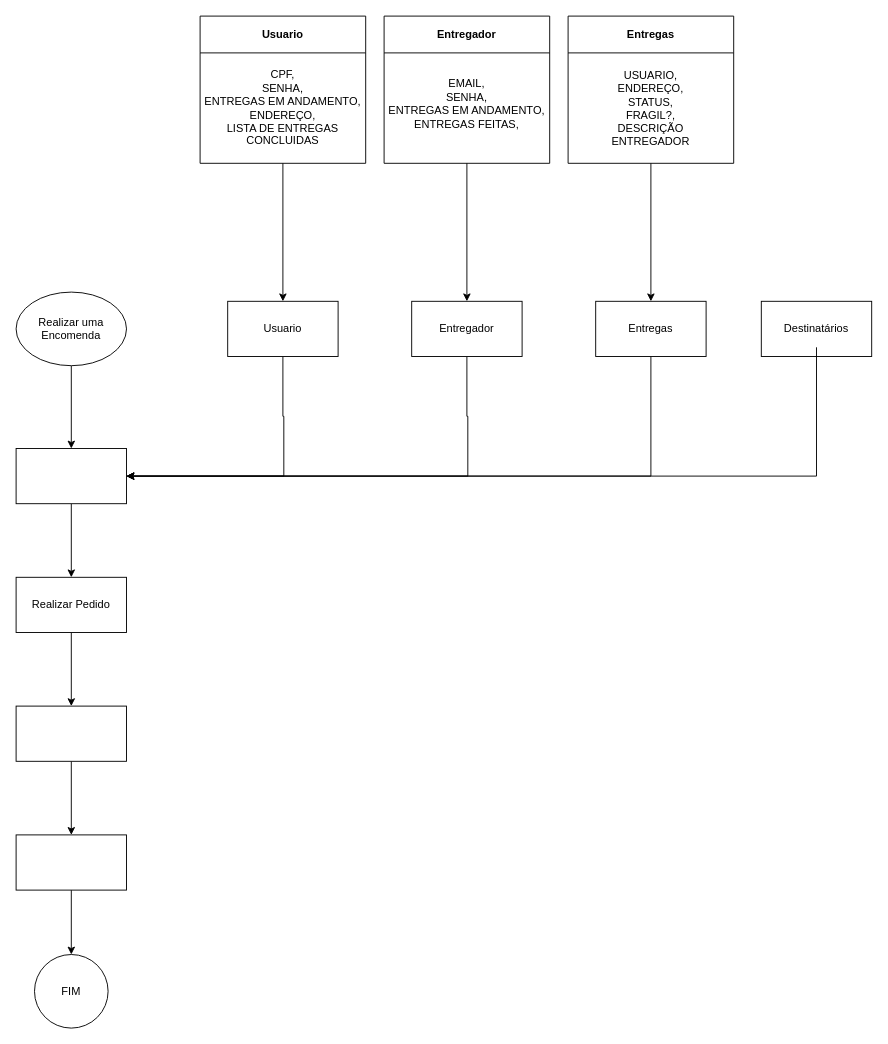
This 888x1044 diagram has some shape labels left out. Each missing label, with the centre of its shape:
Cadastro: pixel 70 476
Pedido Encaminhado: pixel 70 733
Pedido Entregue: pixel 70 862
